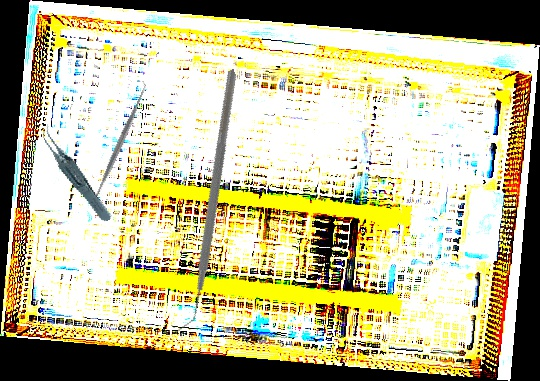Chopper: (90, 68, 320, 333)
Spatula Surgical: (84, 79, 155, 212)
Tissue Forceps: (39, 114, 113, 232)
